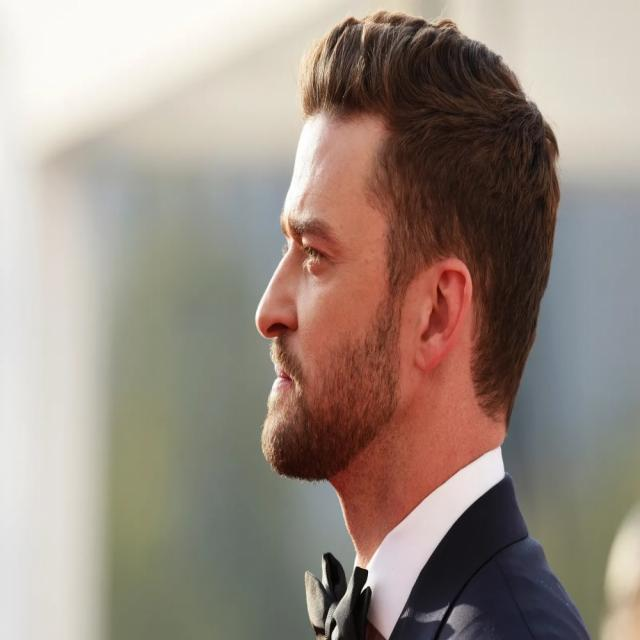beard: (262, 308, 400, 481)
hair: (300, 10, 561, 417)
